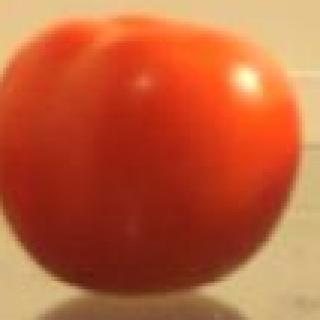tomato: (3, 3, 320, 320)
